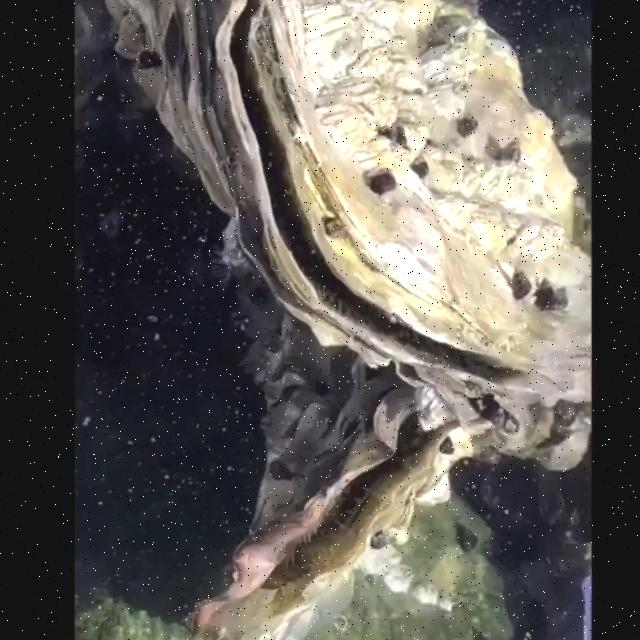Oyster-Open: (111, 1, 596, 412), (183, 302, 482, 640)
